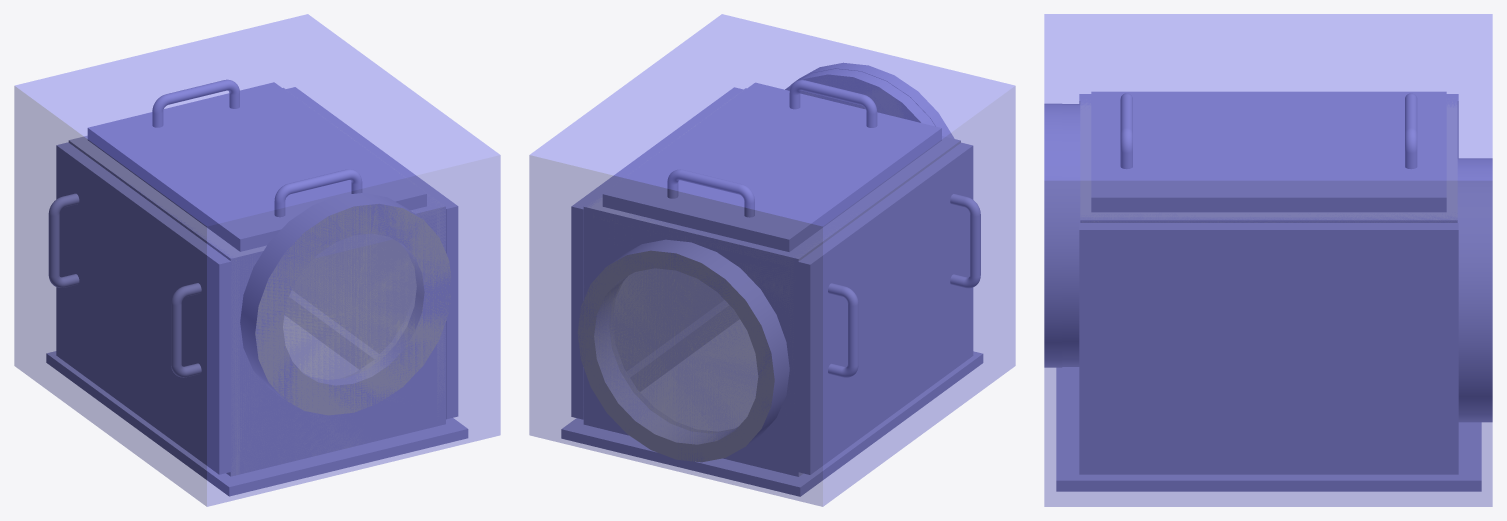
File: EDCContainer.gltf
The picture shows the model from 3 angles, left to right: view 1: azimuth 30°, elevation 25°; view 2: azimuth 150°, elevation 25°; view 3: azimuth 270°, elevation 25°; orthographic projection. The views are drawn at different scales.
Parts seen in each view (by area): view 1: logicEDCContainer_pv0x21cf6a0, EDCCoverRight0x2201820, EDCCoverTop0x2201410, EDCBackFlangeEx0x2200370, EDCBackFlangeExVac0x2200ab0, EDCBackPanel0x21fcbf0, EDCBottom0x2200fe0, EDCCoverLeft0x22019a0, EDCRightPanel0x21fe430, EDCAsemblyVolume0x2200c70, EDCBackFlangeVac0x21ff6c0, logicEDCHandleL_pv0x2202650 (×4) (+2 smaller); view 2: logicEDCContainer_pv0x21cf6a0, EDCCoverRight0x2201820, EDCCoverTop0x2201410, EDCFrontPipeVac0x21fede0, EDCFrontPipe0x21feca0, EDCCoverLeft0x22019a0, EDCFrontPanel0x21fd480, EDCOpticBoard0x2205250, EDCBottom0x2200fe0, EDCLeftPanel0x21fe1d0, EDCRightPanel0x21fe430, EDCTopPanel0x21fc030 (+5 smaller); view 3: logicEDCContainer_pv0x21cf6a0, EDCCoverLeft0x22019a0, EDCCoverTop0x2201410, EDCBottom0x2200fe0, EDCFrontPipe0x21feca0, EDCBackFlangeEx0x2200370, EDCBackFlangeVac0x21ff6c0, EDCAsemblyVolume0x2200c70, EDCTopPanel0x21fc030, EDCLeftPanel0x21fe1d0.
Boxes of the visible parts, box(x1,y1,x2,y2) form: logicEDCContainer_pv0x21cf6a0: box(14, 14, 500, 506); EDCCoverRight0x2201820: box(56, 142, 231, 474); EDCCoverTop0x2201410: box(87, 82, 426, 251); EDCBackFlangeEx0x2200370: box(247, 198, 452, 415); EDCBackFlangeExVac0x2200ab0: box(283, 234, 424, 385); EDCBackPanel0x21fcbf0: box(239, 218, 436, 474); EDCBottom0x2200fe0: box(46, 351, 468, 496); EDCCoverLeft0x22019a0: box(286, 87, 458, 419); EDCRightPanel0x21fe430: box(69, 138, 239, 476); EDCAsemblyVolume0x2200c70: box(69, 136, 444, 475); EDCBackFlangeVac0x21ff6c0: box(240, 193, 410, 391); logicEDCHandleL_pv0x2202650 (×4): box(48, 80, 349, 366); logicEDCContainer_pv0x21cf6a0: box(529, 14, 1015, 506); EDCCoverRight0x2201820: box(798, 142, 973, 474); EDCCoverTop0x2201410: box(602, 82, 941, 251); EDCFrontPipeVac0x21fede0: box(594, 268, 757, 444); EDCFrontPipe0x21feca0: box(577, 239, 789, 462); EDCCoverLeft0x22019a0: box(571, 87, 743, 419); EDCFrontPanel0x21fd480: box(592, 218, 789, 474); EDCOpticBoard0x2205250: box(641, 320, 757, 430); EDCBottom0x2200fe0: box(561, 351, 983, 496); EDCLeftPanel0x21fe1d0: box(583, 88, 746, 426); EDCRightPanel0x21fe430: box(789, 138, 960, 476); EDCTopPanel0x21fc030: box(592, 136, 951, 265); logicEDCContainer_pv0x21cf6a0: box(1044, 14, 1492, 506); EDCCoverLeft0x22019a0: box(1079, 223, 1458, 474); EDCCoverTop0x2201410: box(1091, 91, 1446, 212); EDCBottom0x2200fe0: box(1056, 367, 1481, 491); EDCFrontPipe0x21feca0: box(1457, 158, 1492, 422); EDCBackFlangeEx0x2200370: box(1044, 103, 1062, 367); EDCBackFlangeVac0x21ff6c0: box(1062, 104, 1080, 366); EDCAsemblyVolume0x2200c70: box(1080, 103, 1457, 221); EDCTopPanel0x21fc030: box(1080, 103, 1457, 214); EDCLeftPanel0x21fe1d0: box(1080, 215, 1457, 222).
Bounding box in the file's own units: 62.4 × 56.95 × 70.92.
